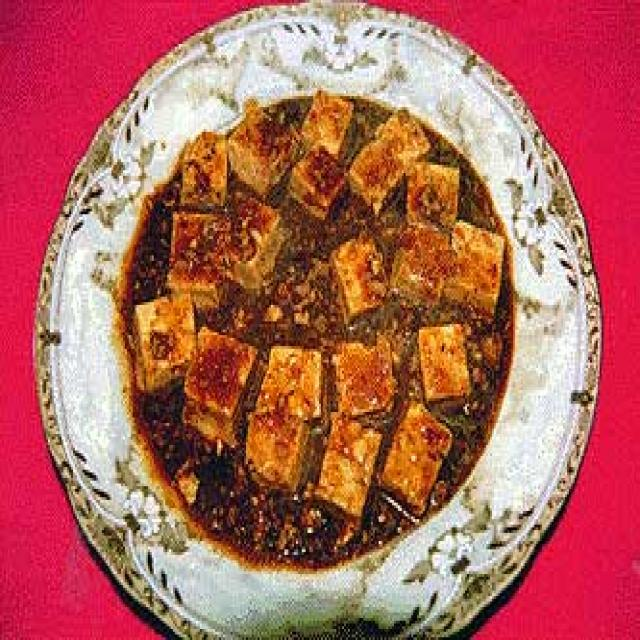豆腐料理: (21, 0, 606, 640)
